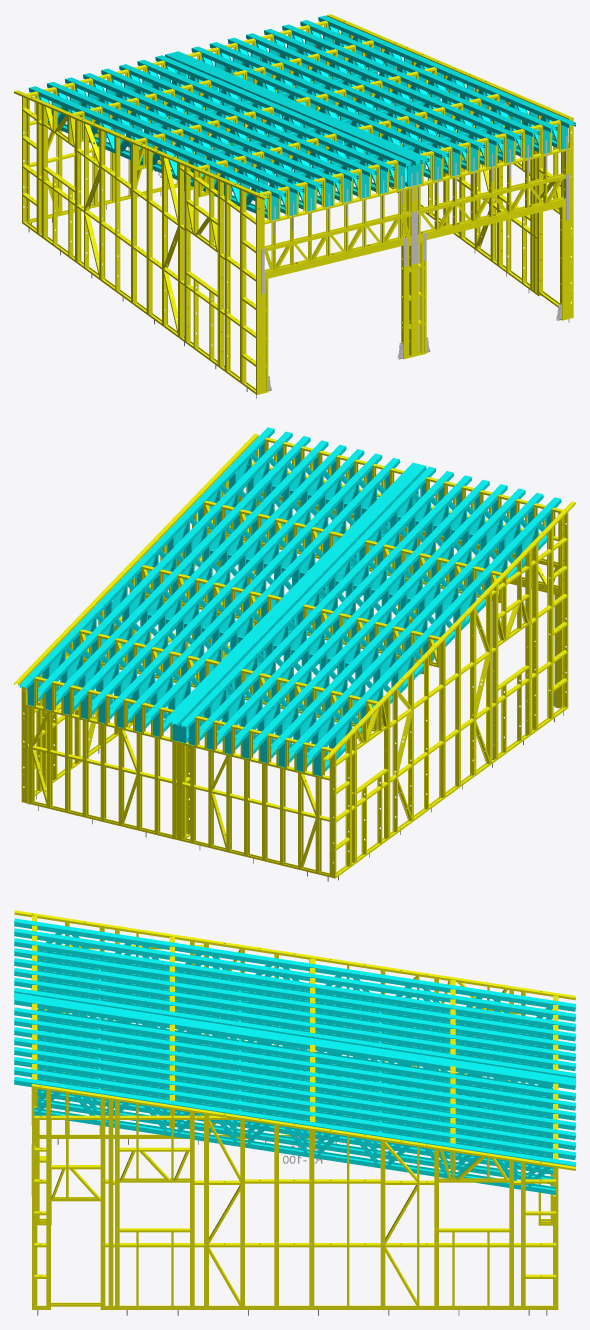
The model's file is two-car-garage.glb.
The picture shows the model from 3 angles, top to bottom: view 1: azimuth 30°, elevation 25°; view 2: azimuth 150°, elevation 25°; view 3: azimuth 270°, elevation 25°; orthographic projection. The views are drawn at different scales.
Visible parts, largest first — view 1: part_00, part_02, part_04; view 2: part_02, part_00; view 3: part_02, part_00.
Part boxes in pixels (box(x1,y1,x2,y2)): part_00: box(14, 14, 573, 394); part_02: box(28, 15, 575, 220); part_04: box(261, 135, 569, 391); part_02: box(19, 427, 561, 776); part_00: box(14, 433, 575, 878); part_02: box(14, 918, 575, 1194); part_00: box(14, 910, 575, 1309).
Size of the model in its own units: 7.11 by 4.47 by 9.76.
